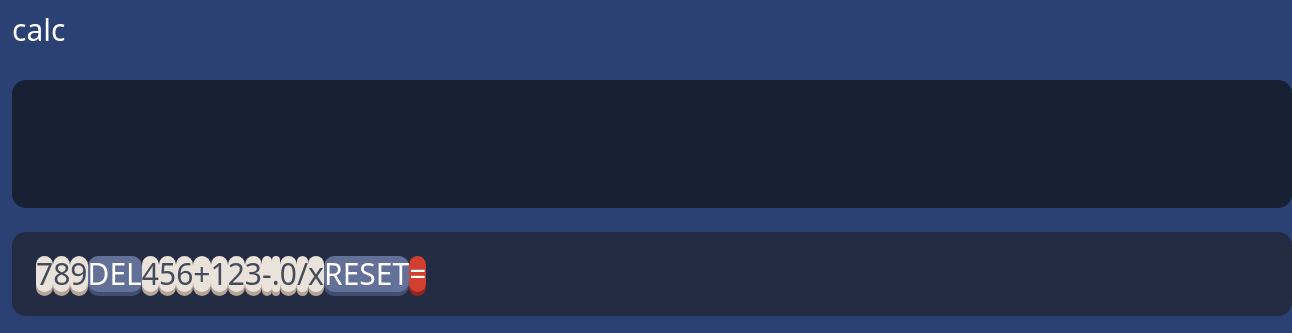
Test: calculator › should render decimalPoint in the number
This screenshot has width=1292, height=333.
Click the button with test id "key-number" showing "2": (236, 274) [228,256,245,292]
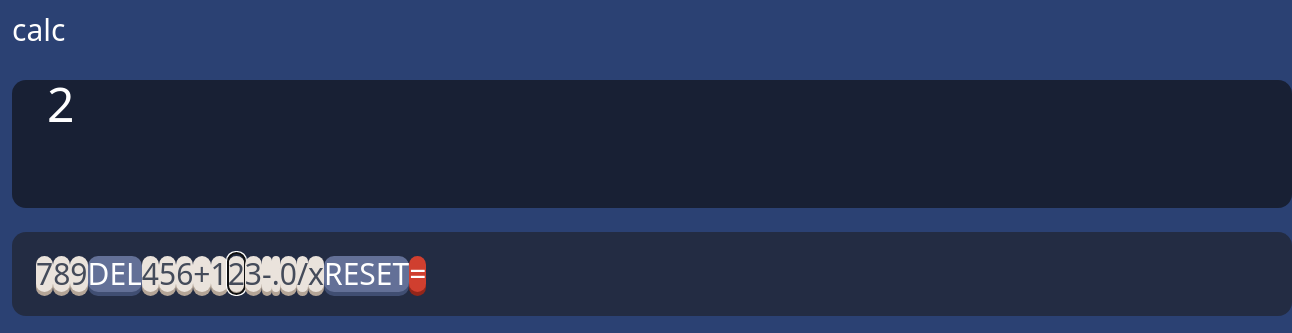
Click the button with test id "key-number" showing "5": (168, 274) [159,256,176,292]
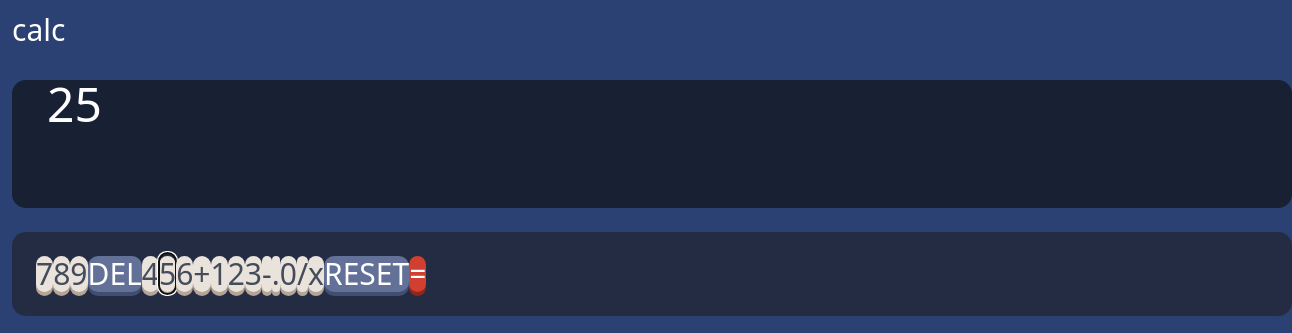
Click the button with test id "key-decimalPoint": (276, 274) [272,256,280,292]
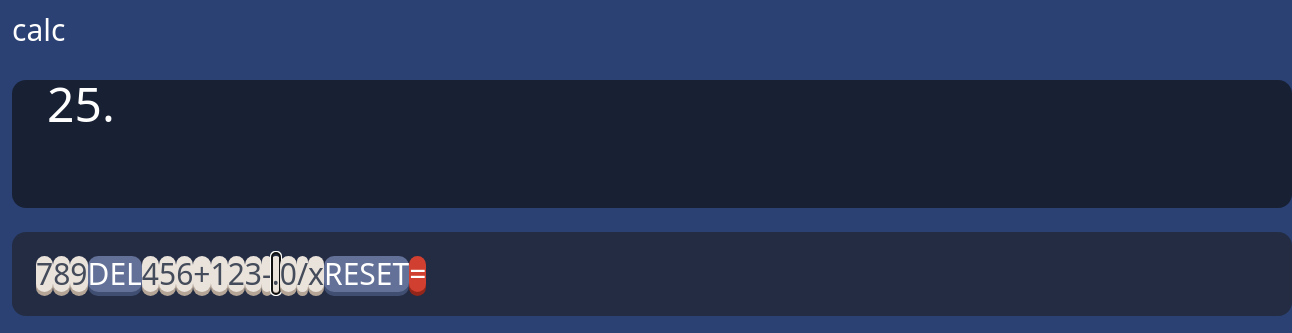
Click the button with test id "key-number" showing "5": (168, 274) [159,256,176,292]
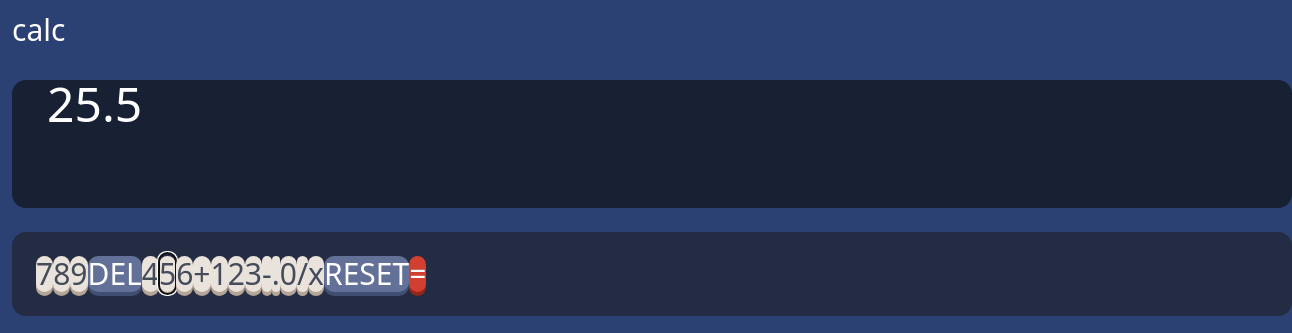
Check: the text "25.5" is shown, box [12,80,1291,208]
